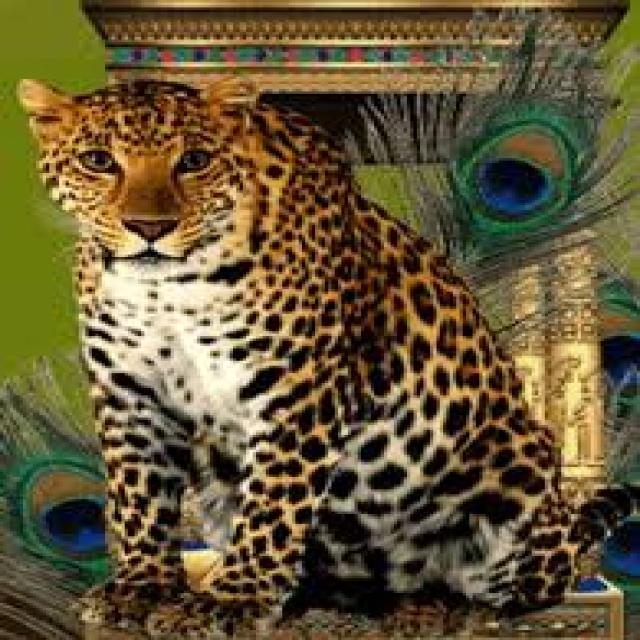Jaguar: (20, 69, 571, 625)
